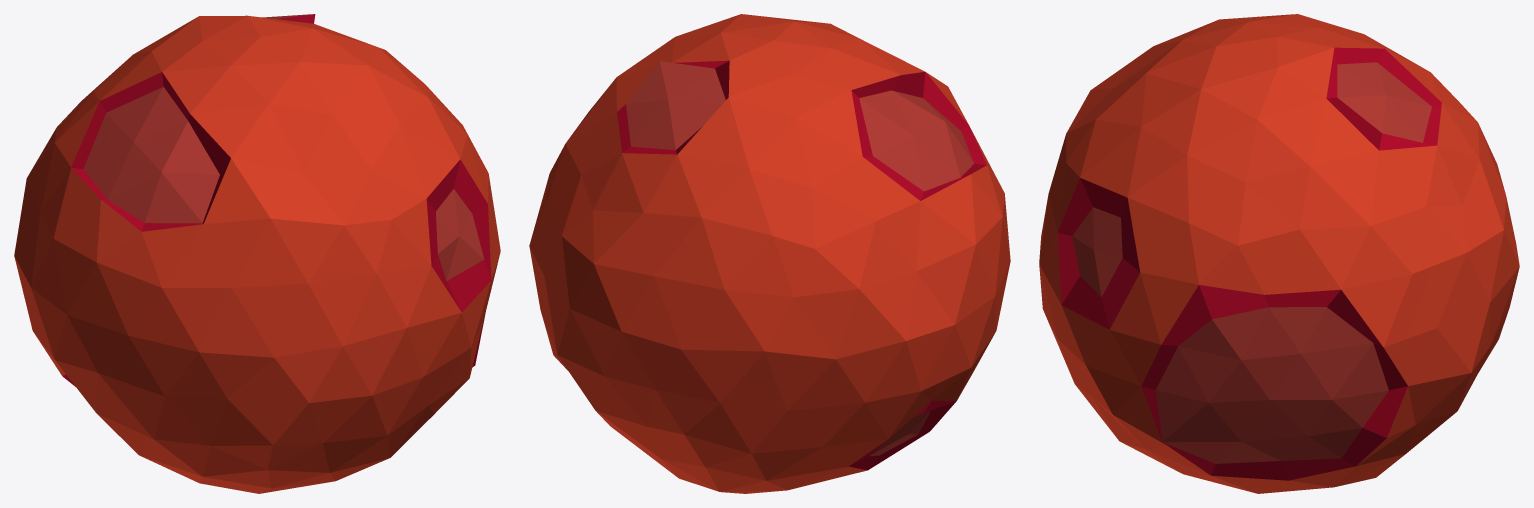
The model's file is mars.glb.
3 views of the same model, side by side, from view 1: azimuth 30°, elevation 25°; view 2: azimuth 150°, elevation 25°; view 3: azimuth 270°, elevation 25° (orthographic).
Visible parts, largest first — view 1: Mars_Icosphere.002; view 2: Mars_Icosphere.002; view 3: Mars_Icosphere.002.
Boxes of the visible parts, x1,y1,x2,y2 form: Mars_Icosphere.002: [14, 14, 500, 493]; Mars_Icosphere.002: [529, 14, 1010, 493]; Mars_Icosphere.002: [1039, 14, 1519, 493].
Bounding box in the file's own units: 1.07 × 1.08 × 1.08.
